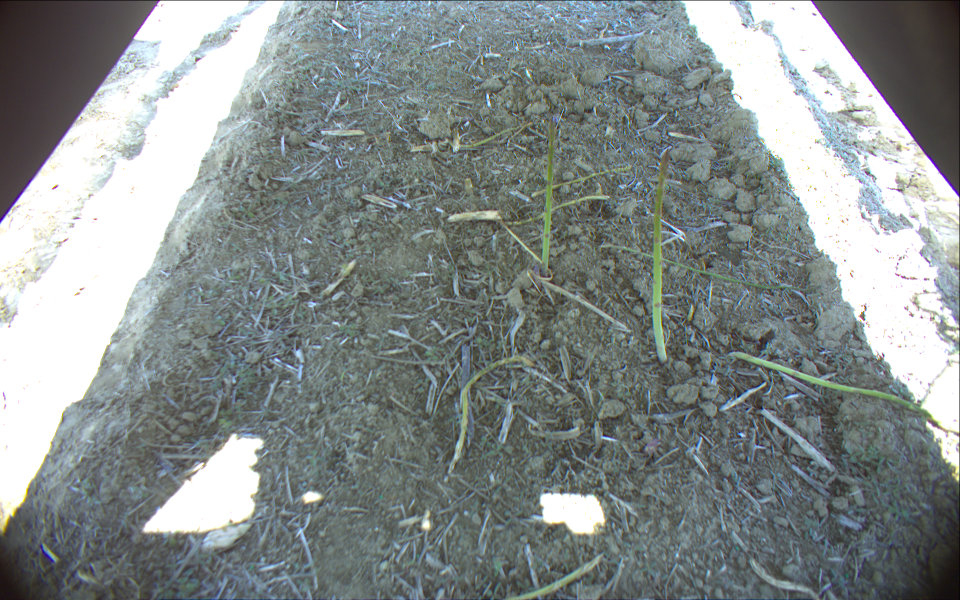aspa: (728, 351, 941, 421), (447, 355, 531, 478), (599, 242, 800, 289), (504, 552, 606, 600), (652, 148, 672, 364), (503, 195, 611, 226), (532, 165, 631, 197), (538, 114, 556, 280), (453, 126, 530, 149)
